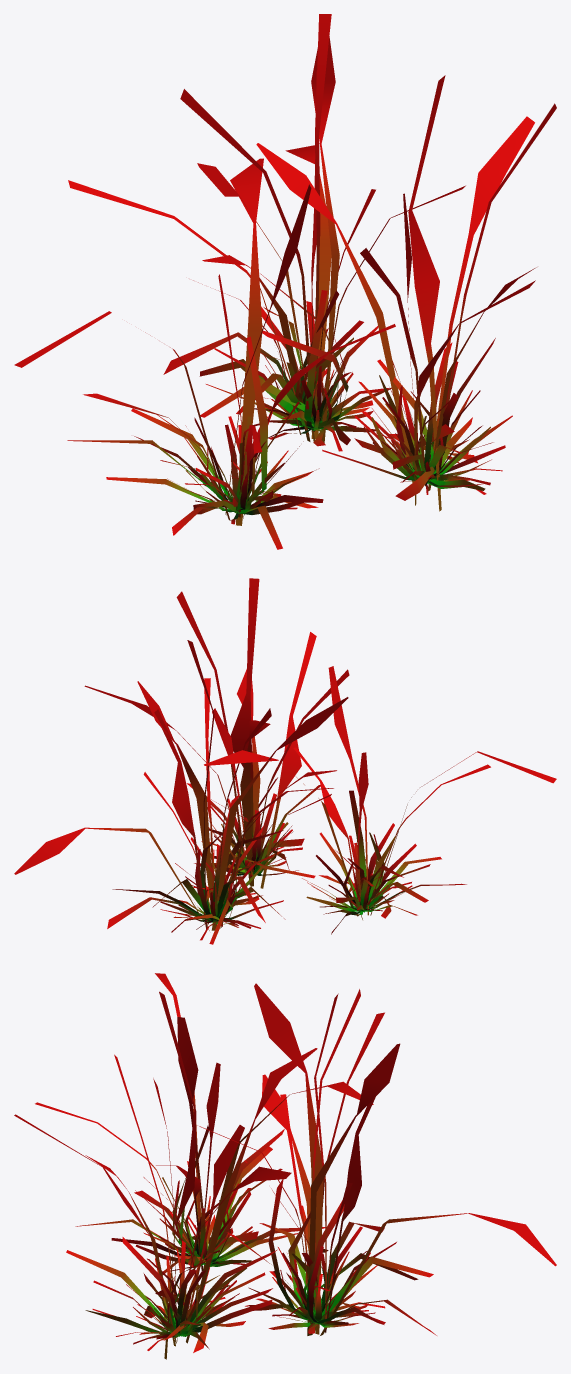
File: Var2_LOD1.fbx
3 renders of one model, top to bottom at view 1: azimuth 30°, elevation 25°; view 2: azimuth 150°, elevation 25°; view 3: azimuth 270°, elevation 25°, orthographic. The views are drawn at different scales.
Visible parts, largest first — view 1: _3be5_Var2_LOD1; view 2: _3be5_Var2_LOD1; view 3: _3be5_Var2_LOD1.
Boxes of the visible parts, bbox=[...] form: _3be5_Var2_LOD1: bbox=[14, 14, 556, 549]; _3be5_Var2_LOD1: bbox=[14, 578, 556, 944]; _3be5_Var2_LOD1: bbox=[14, 973, 556, 1359].
Size of the model in its own units: 135 by 94.58 by 127.
